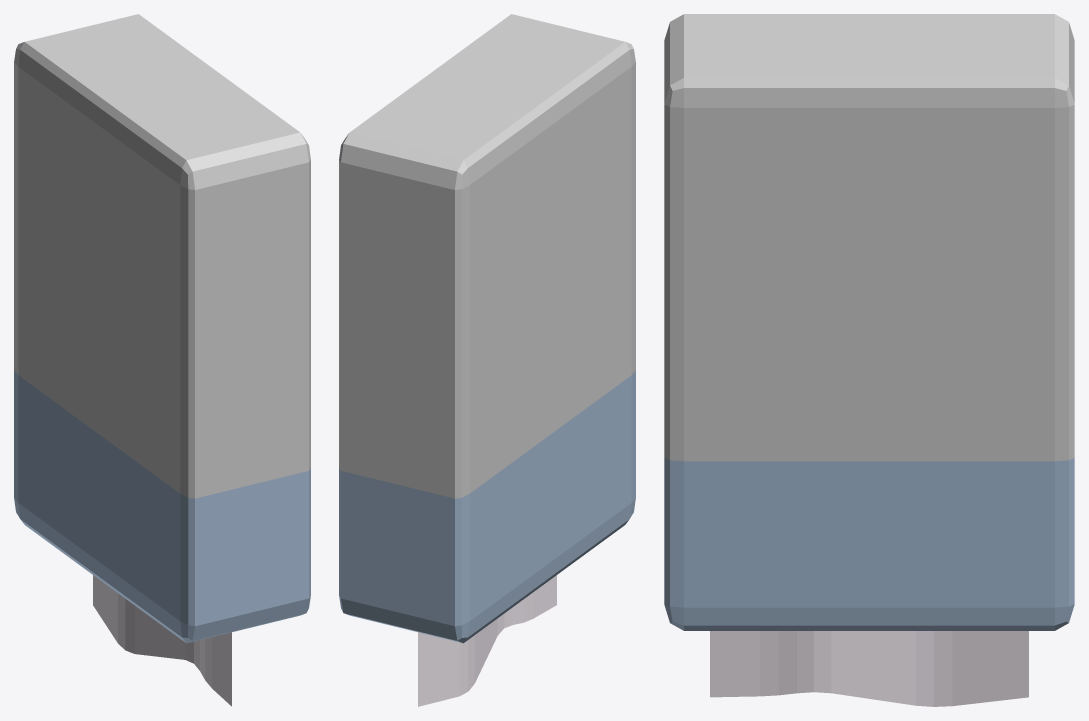
The model's file is papierdispenser.glb.
3 renders of one model, left to right at view 1: azimuth 30°, elevation 25°; view 2: azimuth 150°, elevation 25°; view 3: azimuth 270°, elevation 25°, orthographic. The views are drawn at different scales.
Parts seen in each view (by area): view 1: Cube; view 2: Cube; view 3: Cube.
Part boxes in pixels (bbox=[...]): Cube: bbox=[14, 14, 310, 706]; Cube: bbox=[339, 14, 635, 706]; Cube: bbox=[664, 14, 1074, 706].
Bounding box in the file's own units: 0.1226 × 0.5399 × 0.3016.
